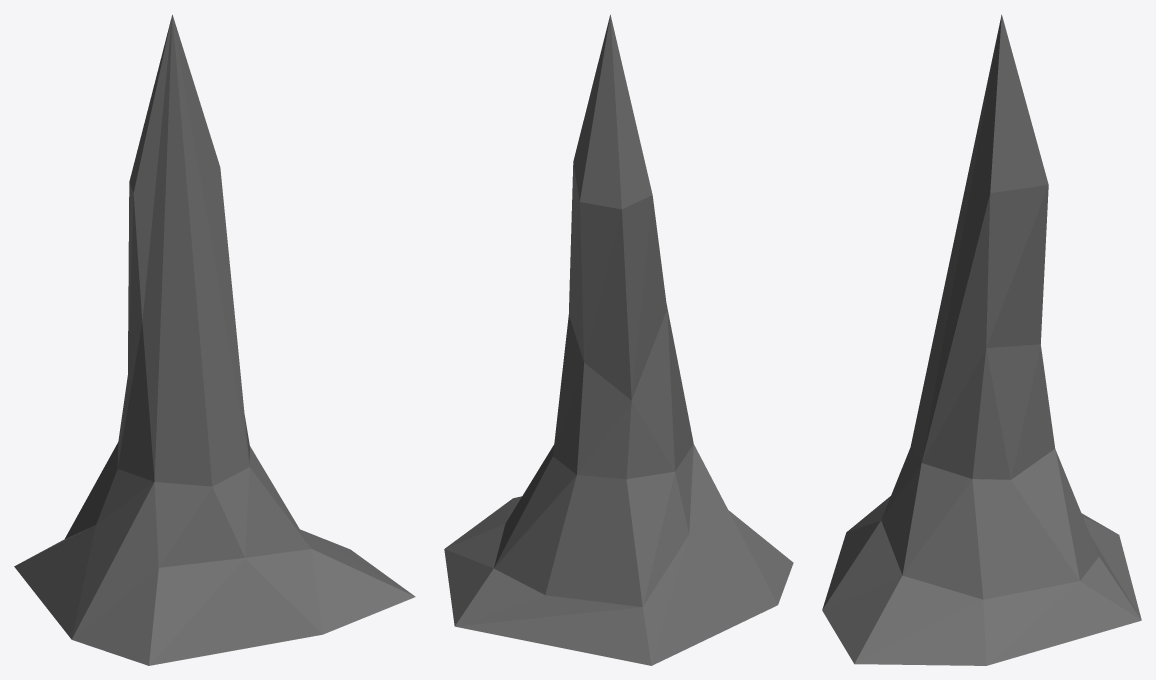
Rendered from stoun_8.fbx.
3 views of the same model, side by side, from view 1: azimuth 30°, elevation 25°; view 2: azimuth 150°, elevation 25°; view 3: azimuth 270°, elevation 25° (orthographic). The views are drawn at different scales.
Visible parts, largest first — view 1: Object.009; view 2: Object.009; view 3: Object.009.
Boxes of the visible parts, <box> form: Object.009: <box>14,14,415,665</box>; Object.009: <box>444,14,793,665</box>; Object.009: <box>822,14,1141,665</box>.
Bounding box in the file's own units: 164 × 296 × 151.
